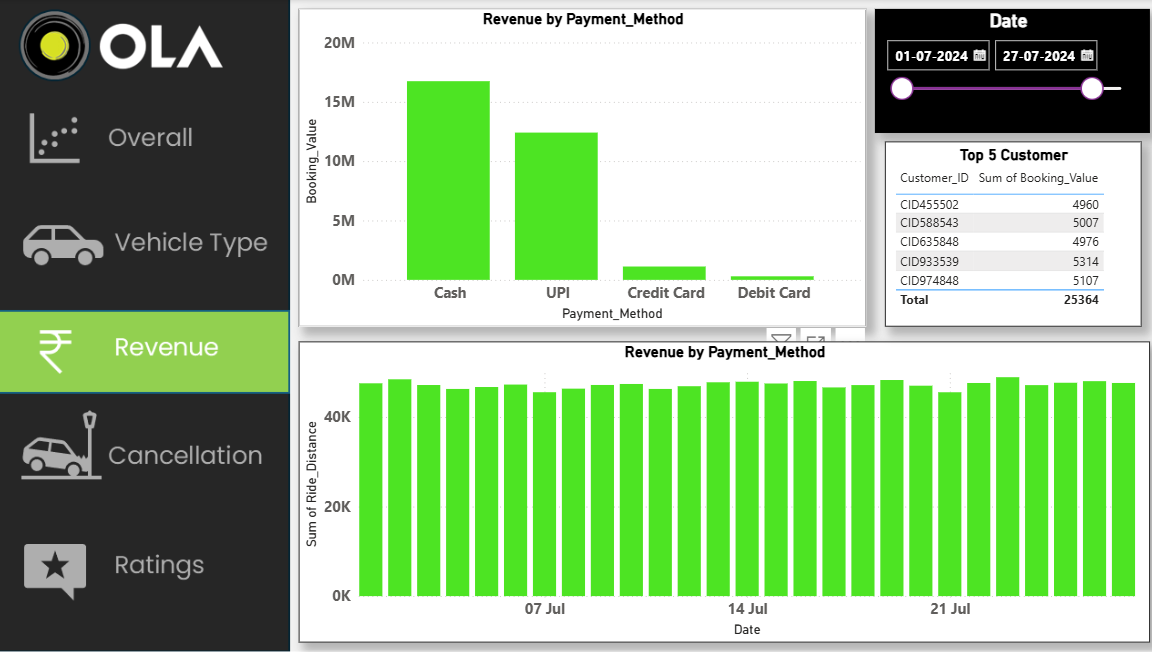

The dashboard page shown, as its layout file describes it:
{"tool":"powerbi","page":{"name":"Revenue","canvas":[1280,720],"ordinal":2},"visuals":[{"type":"actionButton","box":[0,339.9,323.5,100.8],"z":0},{"type":"actionButton","box":[0,440.7,314.1,84.4],"z":1000},{"type":"actionButton","box":[0,94.7,323.8,104.3],"z":2000},{"type":"actionButton","box":[10,104.7,323.8,104.3],"z":3000},{"type":"actionButton","box":[0,220.9,323.8,91.9],"z":4000},{"type":"actionButton","box":[10,230.9,323.8,91.9],"z":5000},{"type":"columnChart","title":"Revenue by  Payment_Method","fields":{"Y":["Sum(Bookings.Booking_Value)"],"Category":["Bookings.Payment_Method"]},"box":[333.4,11,623,348.5],"z":6000},{"type":"columnChart","title":"Revenue by  Payment_Method","fields":{"Y":["Sum(Bookings.Ride_Distance)"],"Category":["Bookings.Date"]},"box":[333.4,376,934.5,330.7],"z":7000},{"type":"slicer","title":"Date","fields":{"Values":["Bookings.Date"]},"box":[966,11,301.9,135.8],"z":8000},{"type":"tableEx","title":"Top 5 Customer","fields":{"Values":["Bookings.Customer_ID","Sum(Bookings.Booking_Value)"]},"box":[977,156.4,281.3,203.1],"z":9000}]}

Visuals, with their boxes in screenshot pixels (x1, y1, x2, y2), scaled from the page's 1280x720 canvas onto the 1152x652 screenshot:
actionButton: (0, 308, 291, 399)
actionButton: (0, 399, 283, 476)
actionButton: (0, 86, 291, 180)
actionButton: (9, 95, 300, 189)
actionButton: (0, 200, 291, 283)
actionButton: (9, 209, 300, 292)
"Revenue by  Payment_Method" columnChart: (300, 10, 861, 326)
"Revenue by  Payment_Method" columnChart: (300, 340, 1141, 640)
"Date" slicer: (869, 10, 1141, 133)
"Top 5 Customer" tableEx: (879, 142, 1132, 326)
